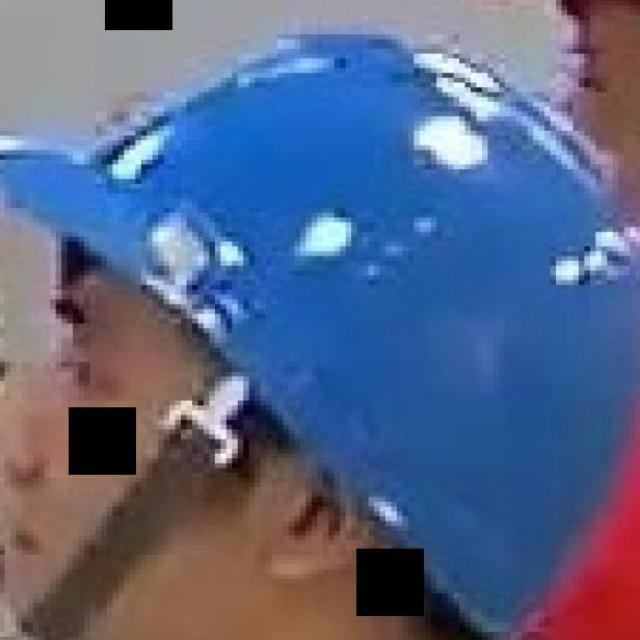blue helmet: (33, 30, 640, 584)
